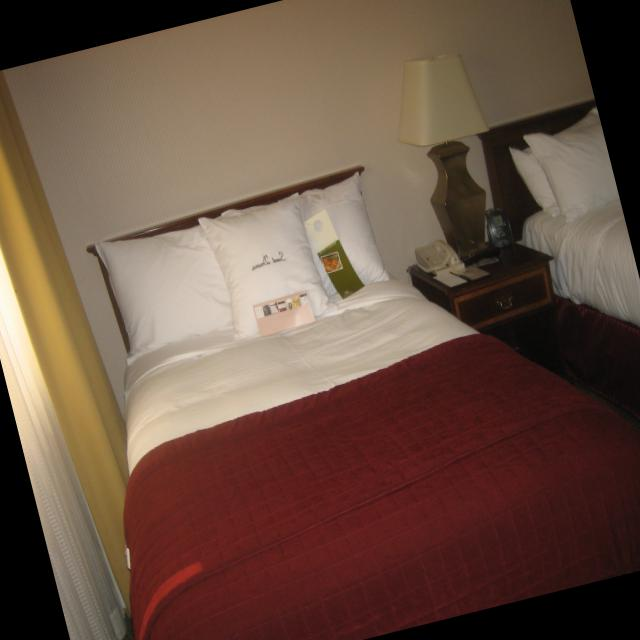bed frame: (87, 165, 640, 640), (480, 97, 640, 399)
clock crop: (486, 210, 513, 257)
curtain crop: (0, 71, 130, 616), (0, 245, 126, 640)
lamp crop: (399, 53, 489, 261)
night table: (407, 239, 567, 361)
paper cup with straws: (305, 209, 365, 300), (433, 272, 465, 287)
pillow: (508, 145, 560, 216)
pillow occluded: (193, 193, 335, 343), (93, 227, 232, 354), (523, 103, 614, 222)
pilolow: (298, 170, 390, 298)
telephone booth: (414, 238, 460, 272)
